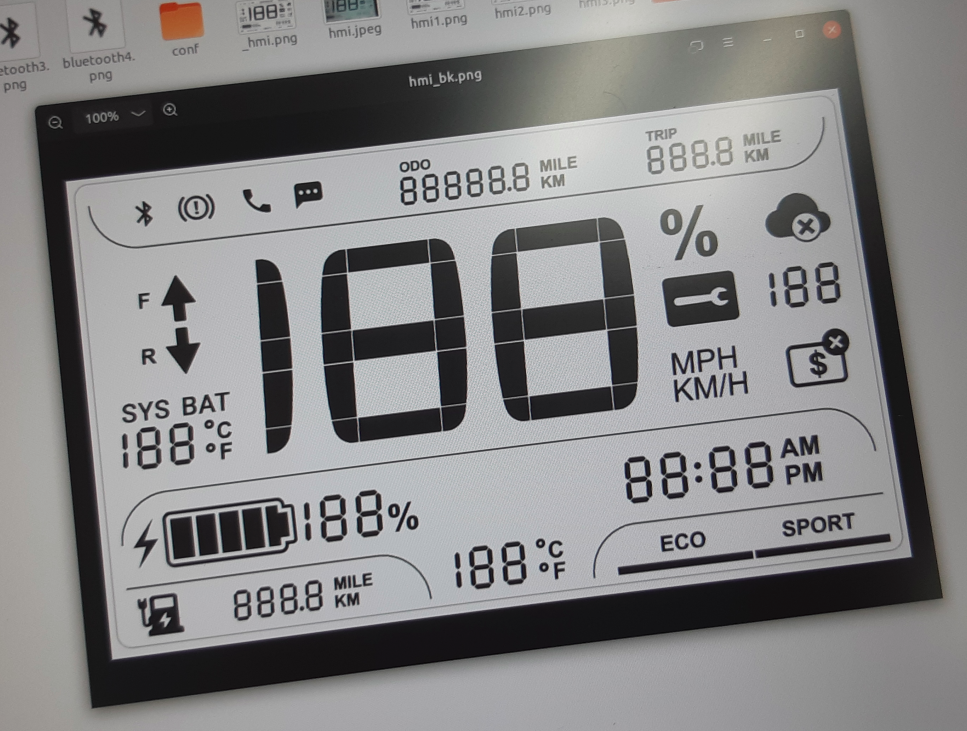bluetooth_on: (130, 198, 157, 229)
braking_on: (173, 192, 219, 224)
calling_on: (238, 186, 276, 217)
connection_lost: (761, 191, 834, 245)
error_code: (660, 268, 742, 329)
low_battery: (134, 590, 188, 639)
sms_on: (291, 179, 326, 211)
vin_id: (784, 326, 851, 390)
